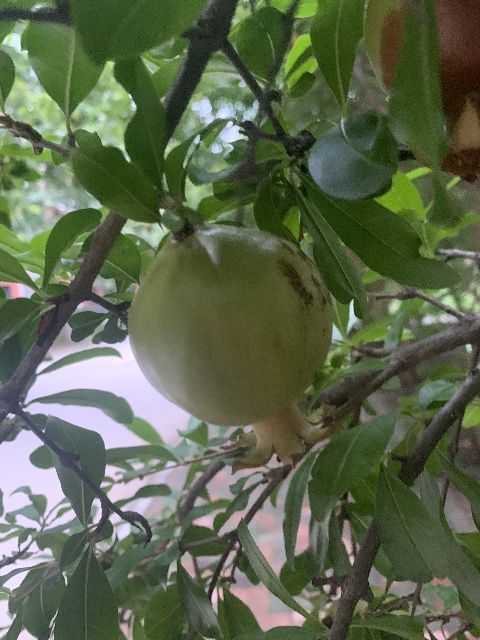mid-growth: (126, 223, 342, 474)
